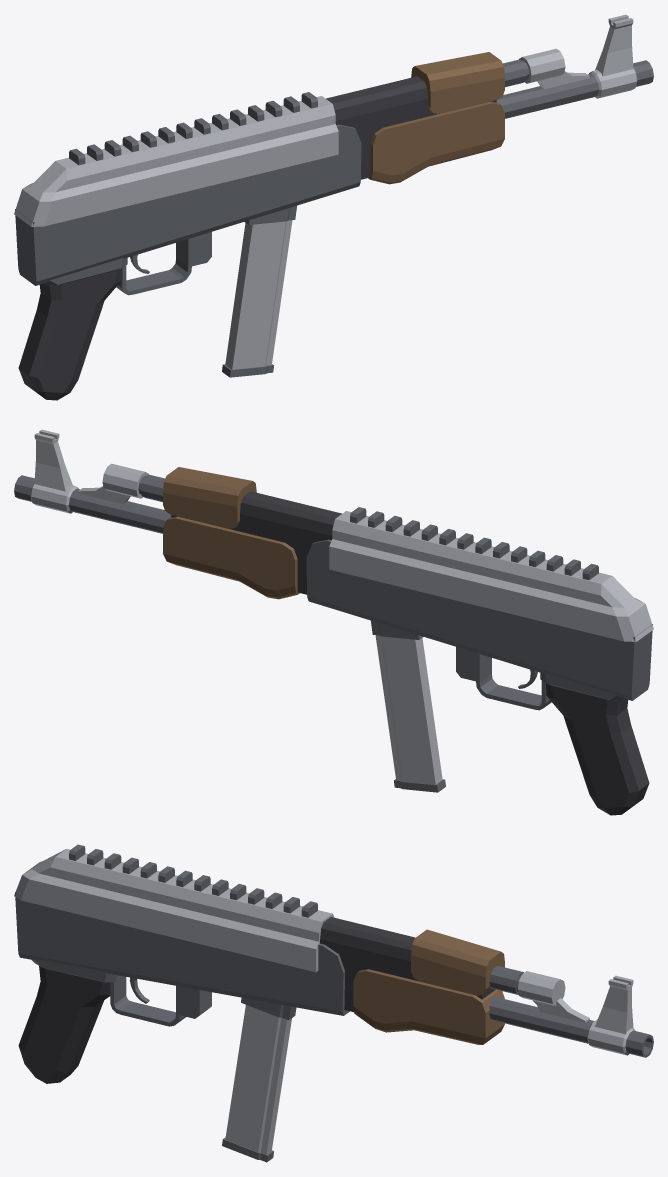
File: AssaultRifle_1.glb
3 views of the same model, one above another, from view 1: azimuth 30°, elevation 25°; view 2: azimuth 150°, elevation 25°; view 3: azimuth 330°, elevation 25° (orthographic).
Visible parts, largest first — view 1: AssaultRifle_1; view 2: AssaultRifle_1; view 3: AssaultRifle_1.
Part boxes in pixels (<box>): AssaultRifle_1: <box>14,14,653,400</box>; AssaultRifle_1: <box>14,429,653,815</box>; AssaultRifle_1: <box>14,844,653,1162</box>.
Size of the model in its own units: 3.1 by 1.26 by 0.196.
